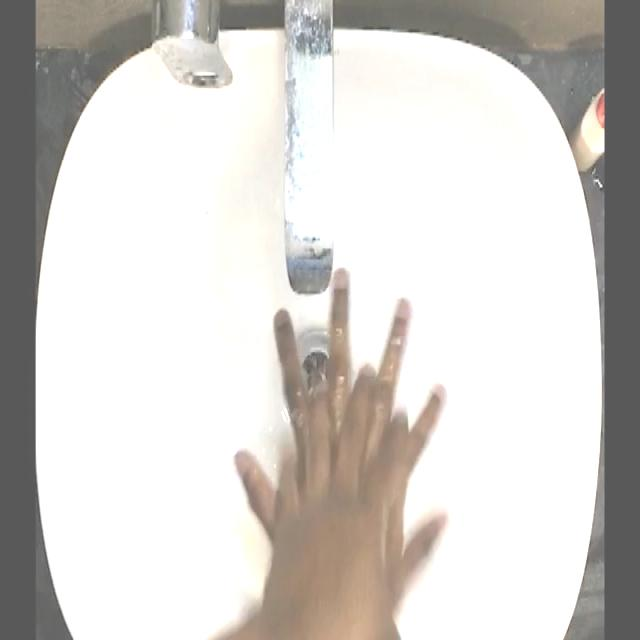step_2: (223, 258, 470, 587)
